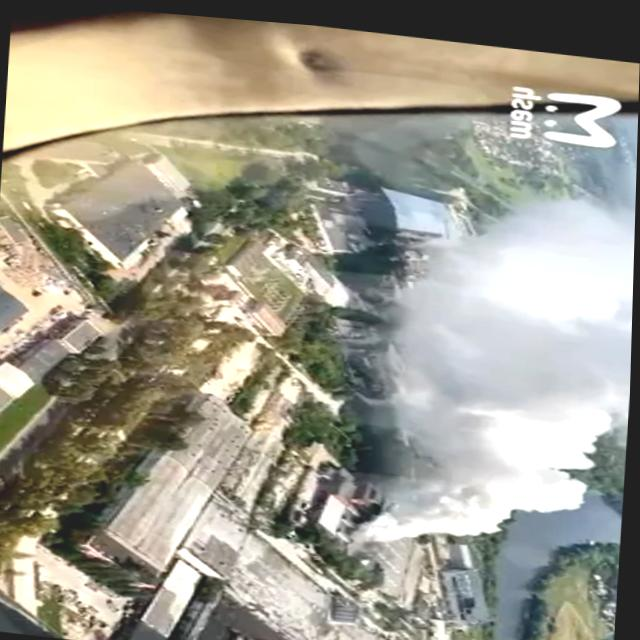Smoke: (356, 173, 637, 563)
